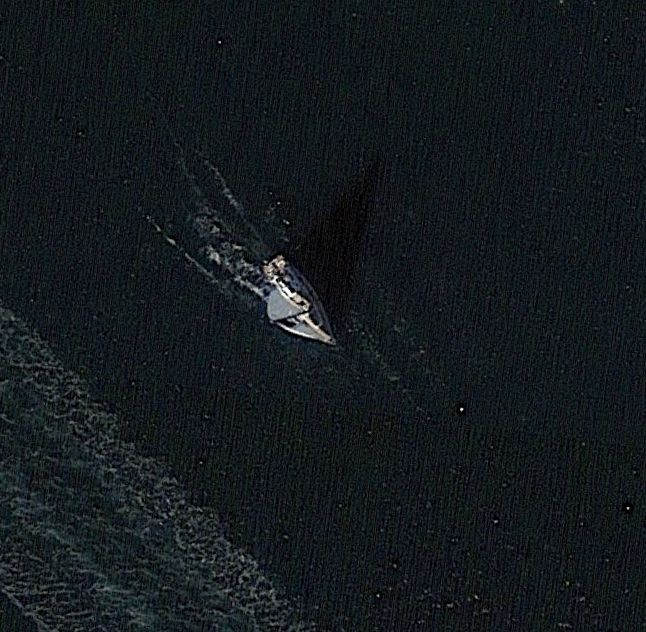boat: (259, 253, 338, 349)
